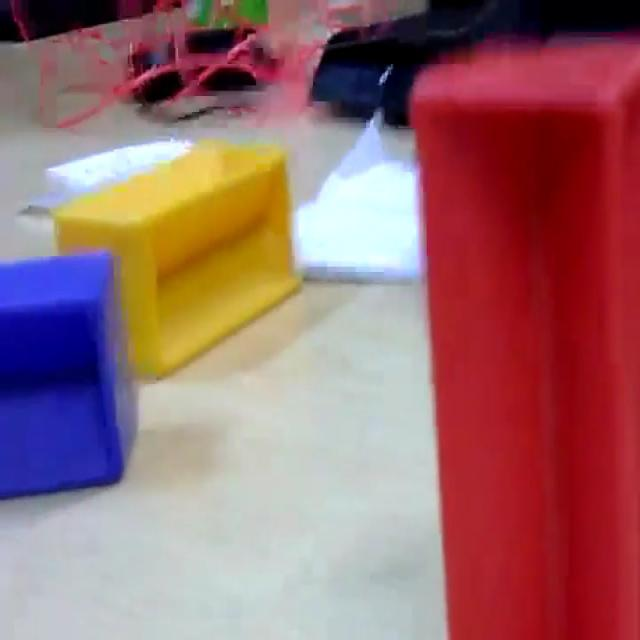blue_block: (0, 248, 131, 499)
red_block: (408, 40, 639, 636)
yellow_block: (52, 136, 302, 379)
